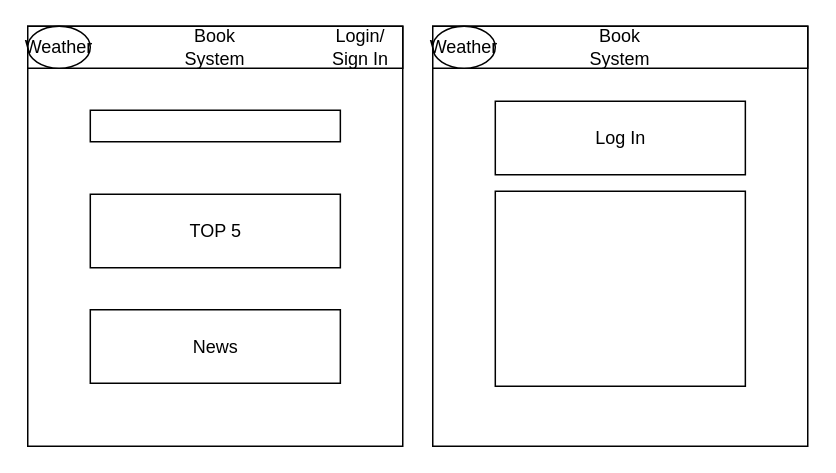
The diagram is 836 pixels wide and 473 high, and some of its shapes have lost their labels. Each missing label, with the centre of its shape:
Email Password Log/in: [619,288]
Search bar: [214,125]
